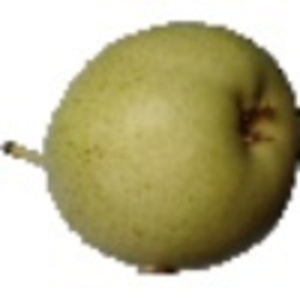pera: (1, 19, 300, 278)
